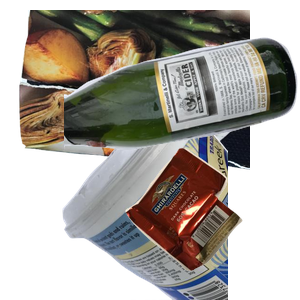glass: (64, 35, 300, 181)
paper: (16, 10, 256, 172)
plastic: (60, 120, 300, 300)
trash: (123, 145, 300, 300)
